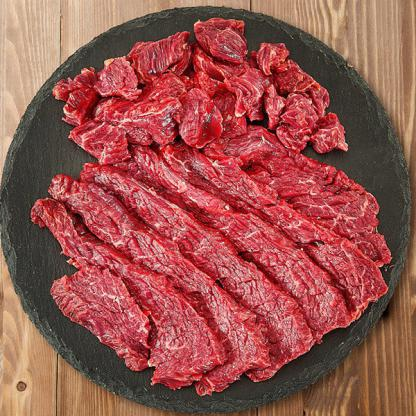beef: (53, 31, 390, 380)
